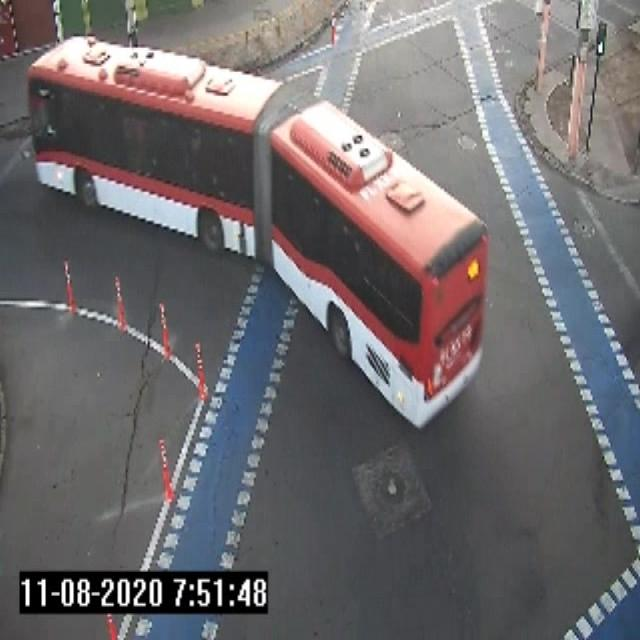AB: (17, 24, 495, 437)
